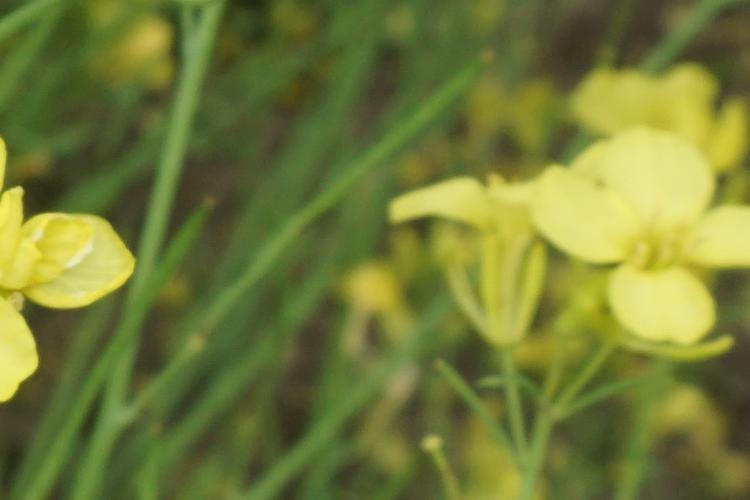yellow: (545, 128, 750, 354), (11, 164, 142, 396), (424, 151, 572, 347)
